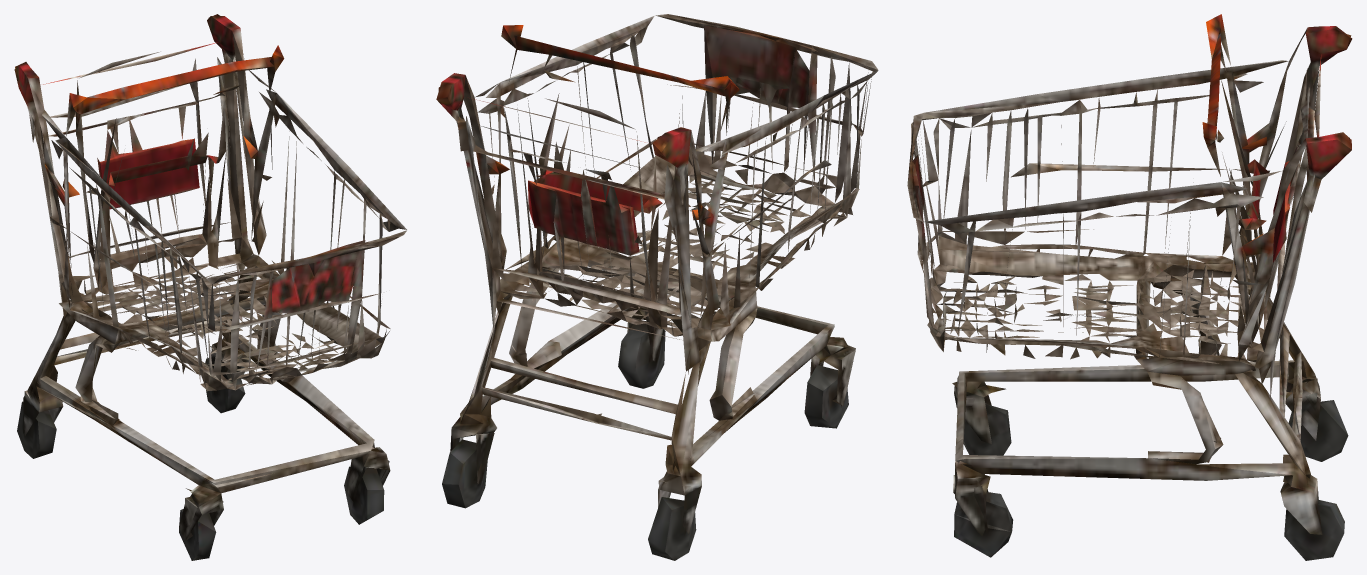
File: p7-shopping-cart.glb
The picture shows the model from 3 angles, left to right: view 1: azimuth 30°, elevation 25°; view 2: azimuth 150°, elevation 25°; view 3: azimuth 270°, elevation 25°; orthographic projection. The views are drawn at different scales.
Parts seen in each view (by area): view 1: p7-shopping-cart; view 2: p7-shopping-cart; view 3: p7-shopping-cart.
Part boxes in pixels (x1,y1,x2,y2): p7-shopping-cart: (14, 14, 406, 560); p7-shopping-cart: (436, 14, 878, 560); p7-shopping-cart: (907, 14, 1352, 560).
Bounding box in the file's own units: 0.6 × 1.05 × 0.9652.
1 material, 1 textured.
